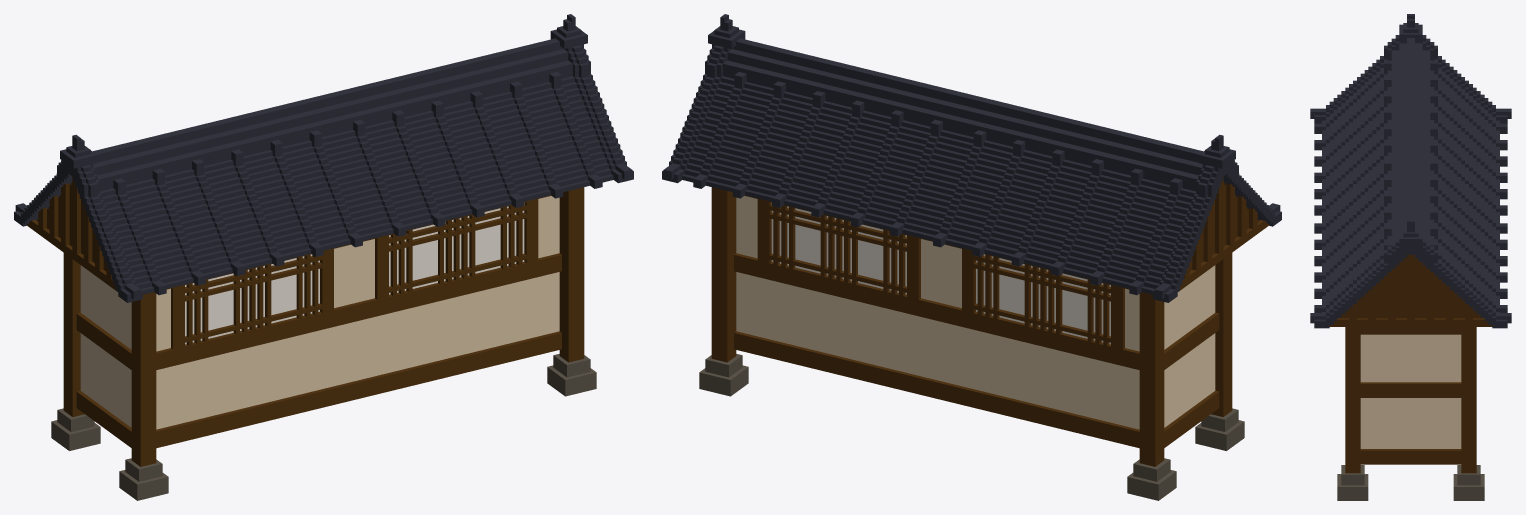
File: house6.glb
The picture shows the model from 3 angles, left to right: view 1: azimuth 30°, elevation 25°; view 2: azimuth 150°, elevation 25°; view 3: azimuth 270°, elevation 25°; orthographic projection. The views are drawn at different scales.
Visible parts, largest first — view 1: Voxel_Korean_traditional village-039; view 2: Voxel_Korean_traditional village-039; view 3: Voxel_Korean_traditional village-039.
Part boxes in pixels (x1=…): Voxel_Korean_traditional village-039: x1=14, y1=14, x2=633, y2=500; Voxel_Korean_traditional village-039: x1=662, y1=14, x2=1281, y2=500; Voxel_Korean_traditional village-039: x1=1310, y1=14, x2=1511, y2=500.
Size of the model in its own units: 131 by 81.98 by 51.99.
1 material, 1 textured.
